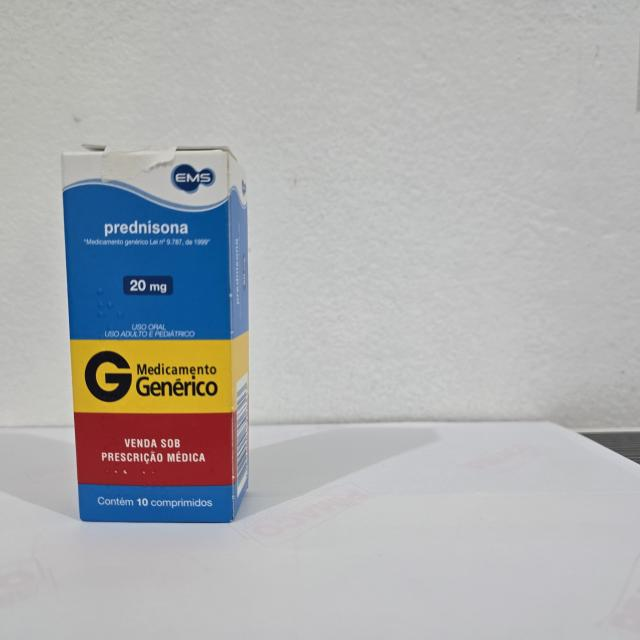prednisona: (56, 140, 251, 528)
